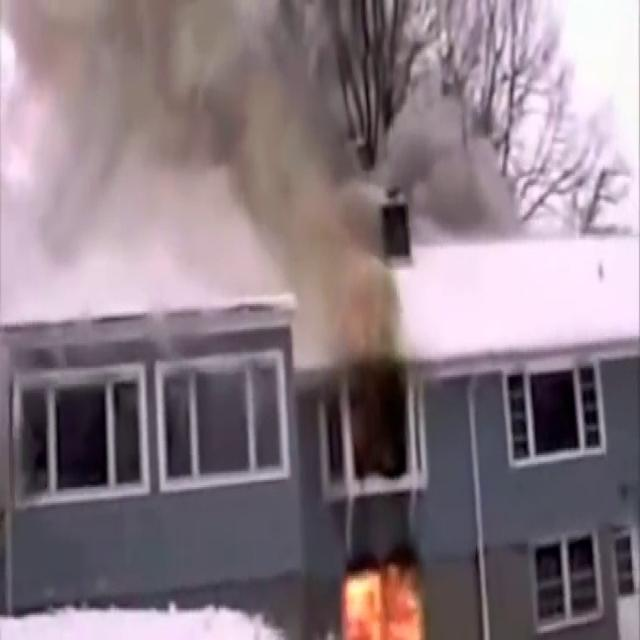Fire: (334, 551, 438, 640)
Smoke: (0, 0, 401, 344), (388, 68, 528, 238)
